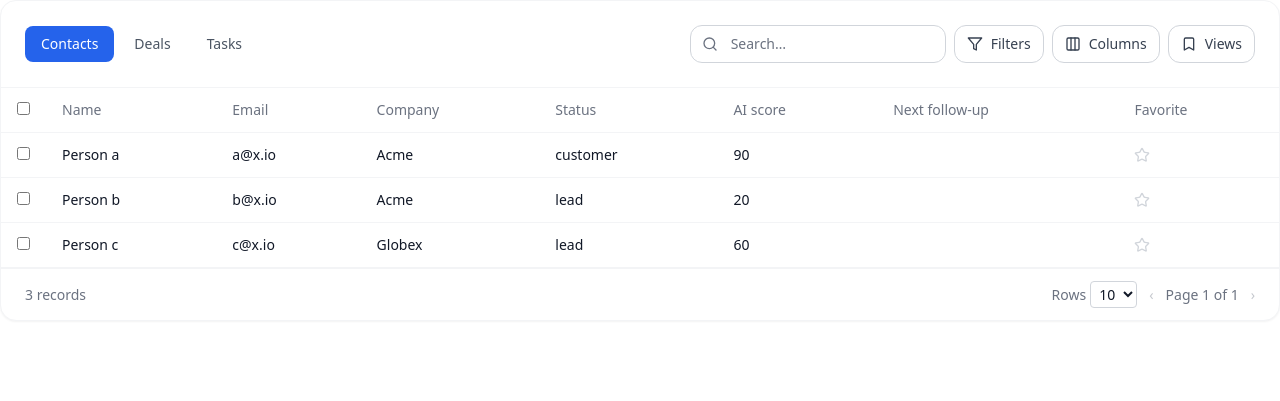
RecordTable › bulk: select rows, favorite them
This screenshot has width=1280, height=401.
What coordinates should you click on to do the following:
click the checkbox named "Select Person a"
I would click on:
 (24, 154)
Its box is [17,147,30,160].
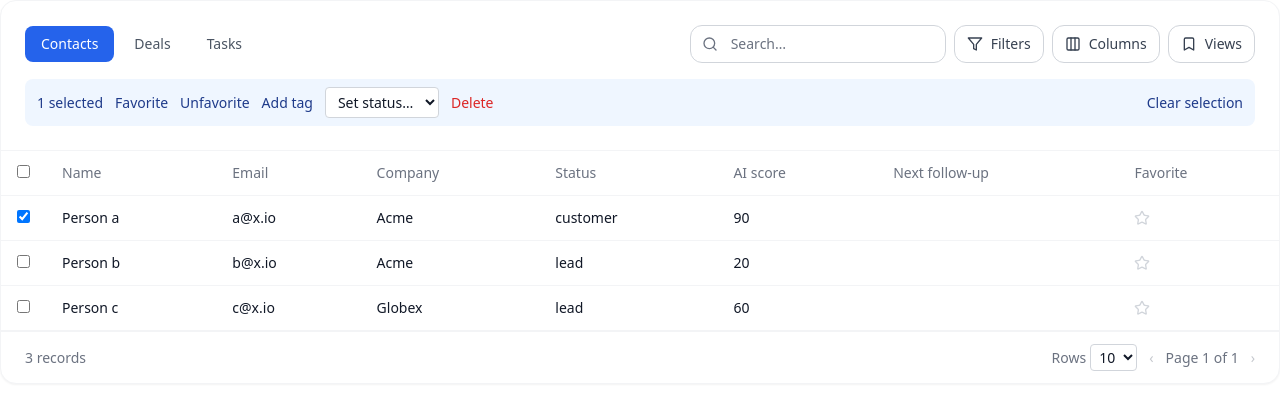
What coordinates should you click on to do the following:
click the checkbox named "Select Person b"
I would click on:
 (24, 262)
Its box is [17,255,30,268].
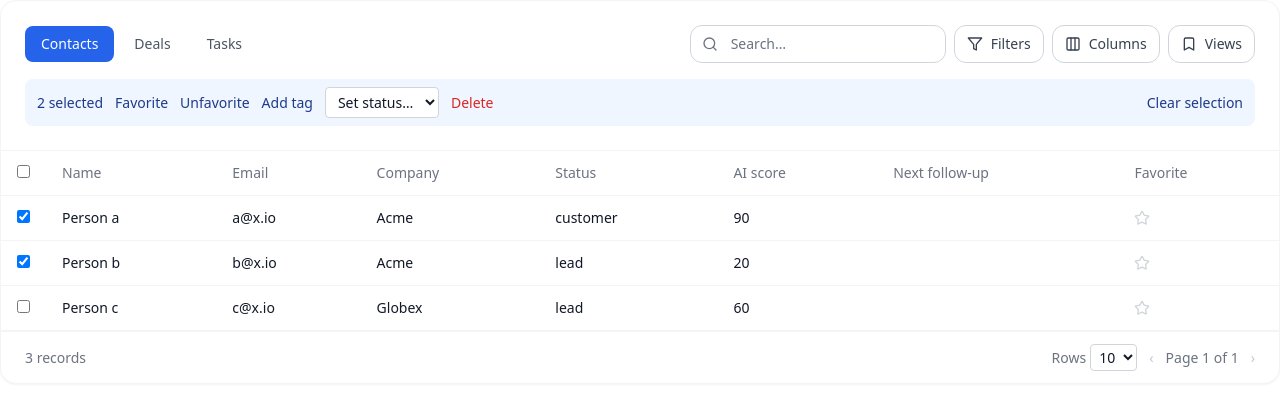
Expected: the text "2 selected" is shown, [37,92,103,112]
What coordinates should you click on to do the following:
click the button "Favorite" next to "selected"
I would click on:
 (142, 102)
Its box is [115,92,168,112].
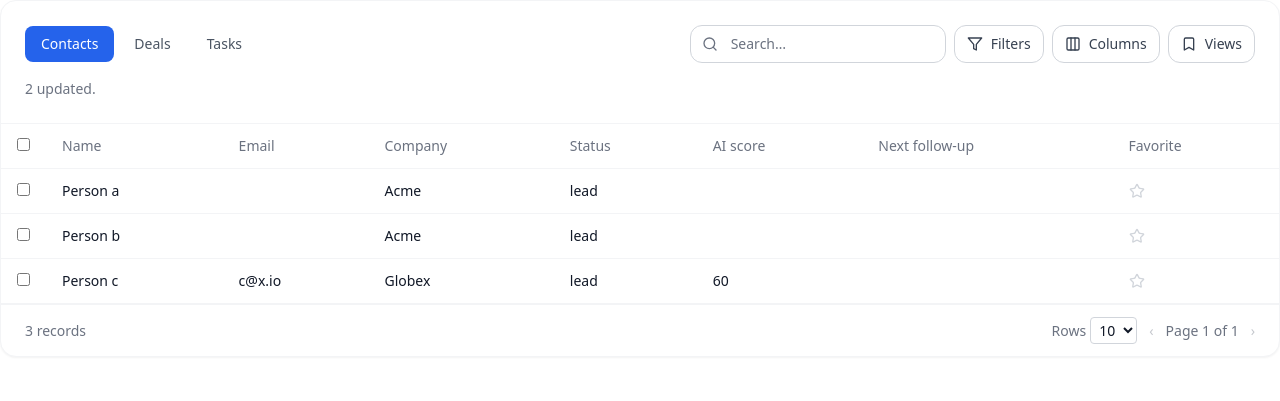
Expected: the message reads "2 updated.", [25,79,96,98]
